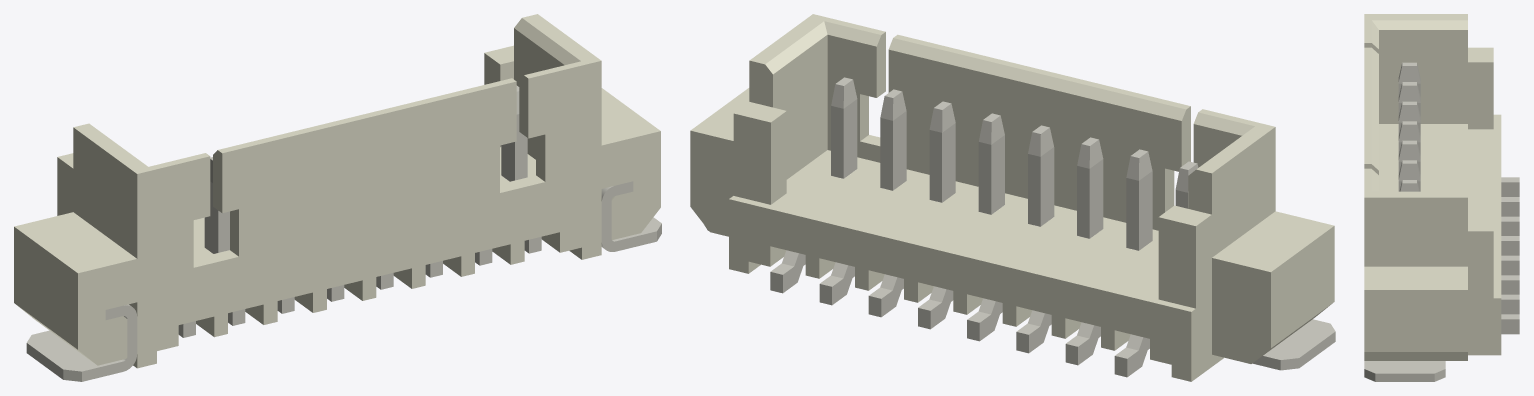
Rendered from kc-molex_picoblade_53398-0871_1x08-1mp_p1.25mm_vertical.glb.
3 renders of one model, left to right at view 1: azimuth 30°, elevation 25°; view 2: azimuth 150°, elevation 25°; view 3: azimuth 270°, elevation 25°, orthographic. The views are drawn at different scales.
Visible parts, largest first — view 1: 0.75_0.75_0.5833333333333334_0, 0.6666666666666666_0.6666666666666666_0.5833333333333334_0.8; view 2: 0.75_0.75_0.5833333333333334_0, 0.6666666666666666_0.6666666666666666_0.5833333333333334_0.8; view 3: 0.75_0.75_0.5833333333333334_0, 0.6666666666666666_0.6666666666666666_0.5833333333333334_0.8.
Boxes of the visible parts, box(x1,y1,x2,y2) form: 0.75_0.75_0.5833333333333334_0: box(14, 14, 660, 368); 0.6666666666666666_0.6666666666666666_0.5833333333333334_0.8: box(26, 85, 661, 381); 0.75_0.75_0.5833333333333334_0: box(690, 14, 1334, 381); 0.6666666666666666_0.6666666666666666_0.5833333333333334_0.8: box(704, 77, 1335, 377); 0.75_0.75_0.5833333333333334_0: box(1364, 14, 1501, 360); 0.6666666666666666_0.6666666666666666_0.5833333333333334_0.8: box(1364, 62, 1519, 381).
Bounding box in the file's own units: 1.51 × 0.47 × 0.4201.
